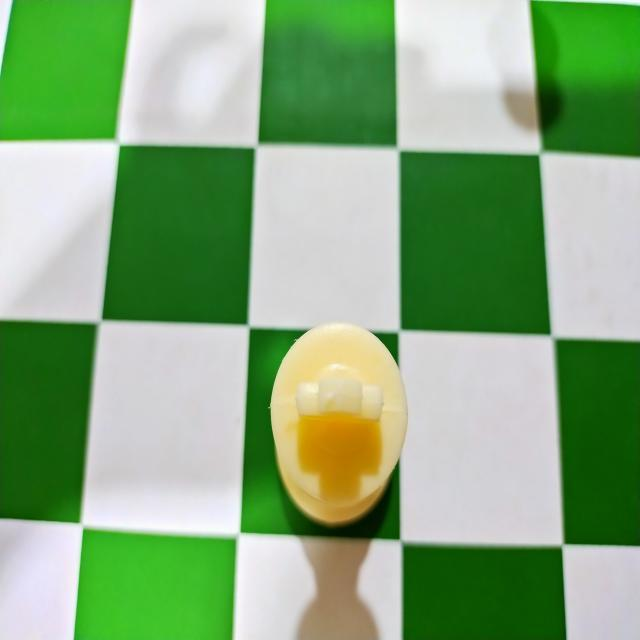white-king: (268, 323, 408, 523)
